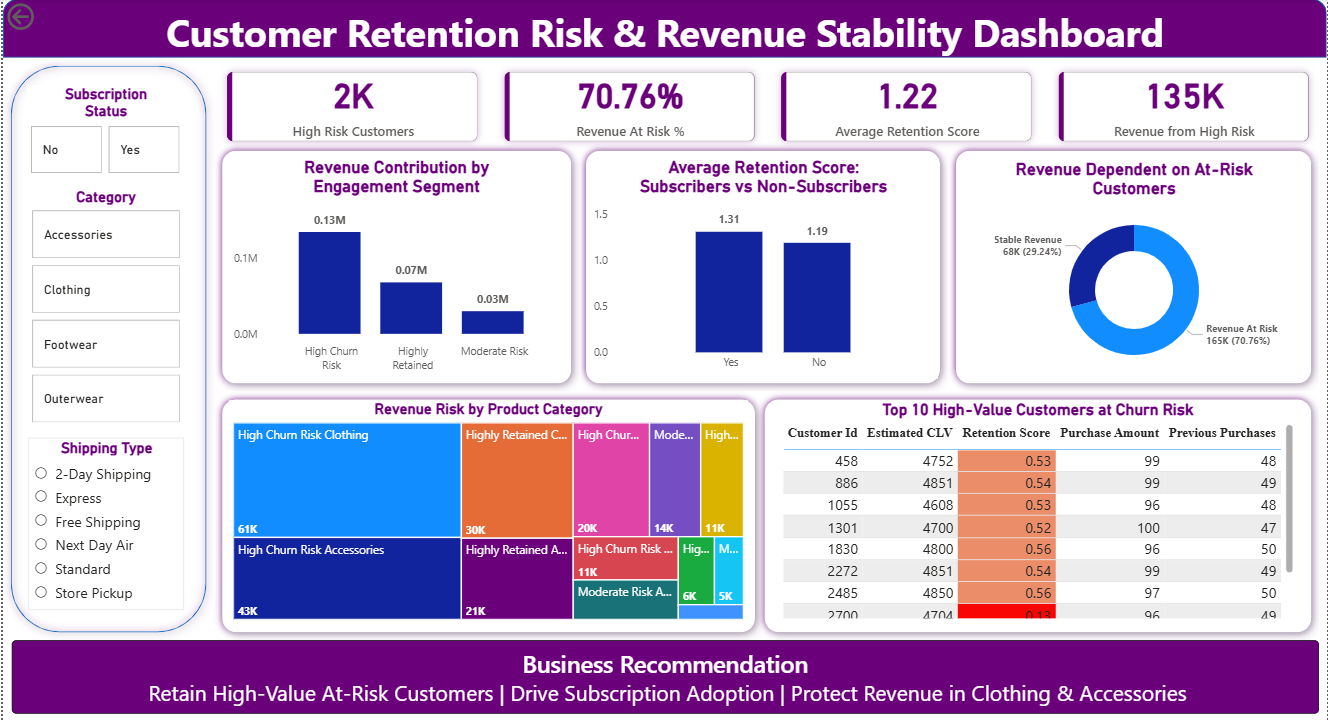

What the dashboard file says about the page in this screenshot:
{"tool":"powerbi","page":{"name":"Page 1","canvas":[1500,820],"ordinal":0},"visuals":[{"type":"cardVisual","fields":{"Data":["public customer.High Risk Customers","public customer.Revenue At Risk %","Avg(public customer.retention_score)","public customer.Revenue from High Risk"]},"box":[238,66.6,1260.9,111.9],"z":0},{"type":"shape","box":[0,0,1500.3,66.6],"z":1000},{"type":"textbox","box":[0,14.1,1500.7,105.9],"z":2000},{"type":"shape","box":[239.4,162.9,413.7,281.9],"z":3000},{"type":"clusteredColumnChart","title":"Revenue Contribution by Engagement Segment","fields":{"Category":["public customer.behavioral_segment"],"Y":["Sum(public customer.purchase_amount)"]},"box":[256.4,179.9,379.7,250.8],"z":4000},{"type":"shape","box":[651.7,162.9,419.4,281.9],"z":5000},{"type":"shape","box":[1071,162.9,420.8,281.9],"z":6000},{"type":"clusteredColumnChart","title":"Average Retention Score: Subscribers vs Non-Subscribers","fields":{"Category":["public customer.subscription_status"],"Y":["Avg(public customer.retention_score)"]},"box":[664.4,179.9,395.3,250.8],"z":7000},{"type":"donutChart","title":"Revenue Dependent on At-Risk Customers","fields":{"Category":["public customer.revenue_risk_flag"],"Y":["Sum(public customer.purchase_amount)"]},"box":[1086.6,181.3,391,249.3],"z":8000},{"type":"shape","box":[0,66.6,239.4,660.2],"z":9000},{"type":"advancedSlicerVisual","fields":{"Values":["public customer.subscription_status"]},"box":[26.9,97.8,179.9,104.8],"z":10000},{"type":"advancedSlicerVisual","fields":{"Values":["public customer.category"]},"box":[28.3,213.9,177.1,273.4],"z":12000},{"type":"listSlicer","title":"Shipping Type","fields":{"Values":["public customer.shipping_type"]},"box":[28.3,497.3,177.1,195.5],"z":13000},{"type":"shape","box":[239.4,444.9,621.9,281.9],"z":14000},{"type":"treemap","title":"Revenue Risk by Product Category","fields":{"Values":["Sum(public customer.purchase_amount)"],"Group":["public customer.behavioral_segment","public customer.category"]},"box":[256.4,454.8,587.9,253.6],"z":15000},{"type":"shape","box":[854.3,444.9,637.5,281.9],"z":16000},{"type":"tableEx","title":"Top 10 High-Value Customers at Churn Risk","fields":{"Values":["public customer.customer_id","public customer.estimated_clv","public customer.retention_score","public customer.purchase_amount","public customer.previous_purchases"]},"box":[878.4,454.8,589.4,252.2],"z":17000},{"type":"textbox","box":[9.9,726.8,1481.9,83.6],"z":17001},{"type":"actionButton","box":[0,0,100,40],"z":17002}]}

Visuals, with their boxes in screenshot pixels (x1, y1, x2, y2), scaled from the page's 1500x820 canvas onto the 1328x721 screenshot:
cardVisual - public customer.High Risk Customers x public customer.Revenue At Risk %: 211 59 1327 157
shape: 0 0 1327 59
textbox: 0 12 1327 106
shape: 212 143 578 391
"Revenue Contribution by Engagement Segment" clusteredColumnChart: 227 158 563 379
shape: 577 143 948 391
shape: 948 143 1321 391
"Average Retention Score: Subscribers vs Non-Subscribers" clusteredColumnChart: 588 158 938 379
"Revenue Dependent on At-Risk Customers" donutChart: 962 159 1308 379
shape: 0 59 212 639
advancedSlicerVisual - public customer.subscription_status: 24 86 183 178
advancedSlicerVisual - public customer.category: 25 188 182 428
"Shipping Type" listSlicer: 25 437 182 609
shape: 212 391 763 639
"Revenue Risk by Product Category" treemap: 227 400 747 623
shape: 756 391 1321 639
"Top 10 High-Value Customers at Churn Risk" tableEx: 778 400 1299 622
textbox: 9 639 1321 713
actionButton: 0 0 89 35
